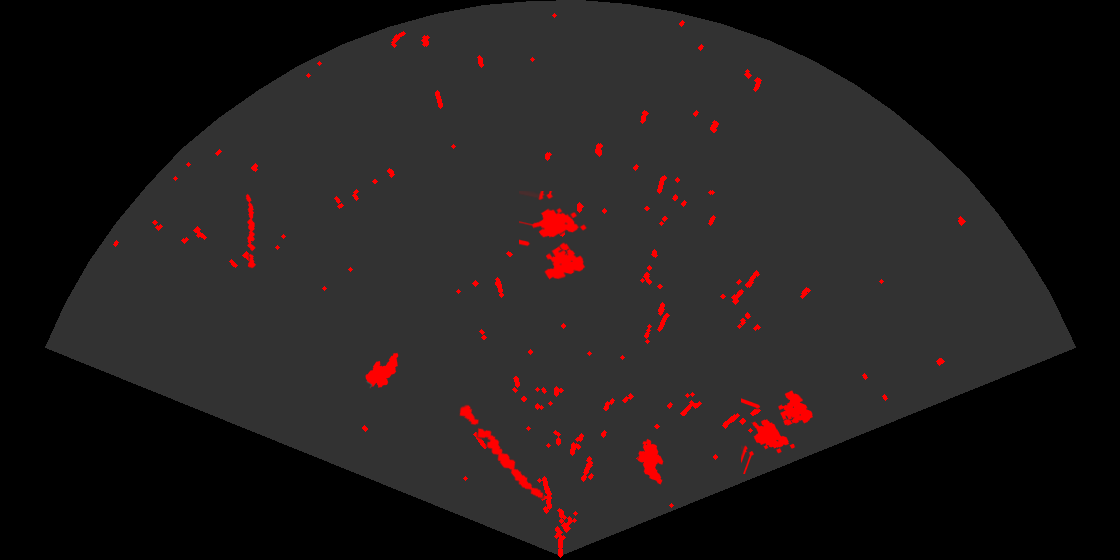AUV: (636, 437, 665, 486), (364, 351, 400, 390)
cage: (519, 191, 589, 281), (741, 389, 814, 474)
chain: (458, 403, 545, 500), (244, 193, 258, 269)
